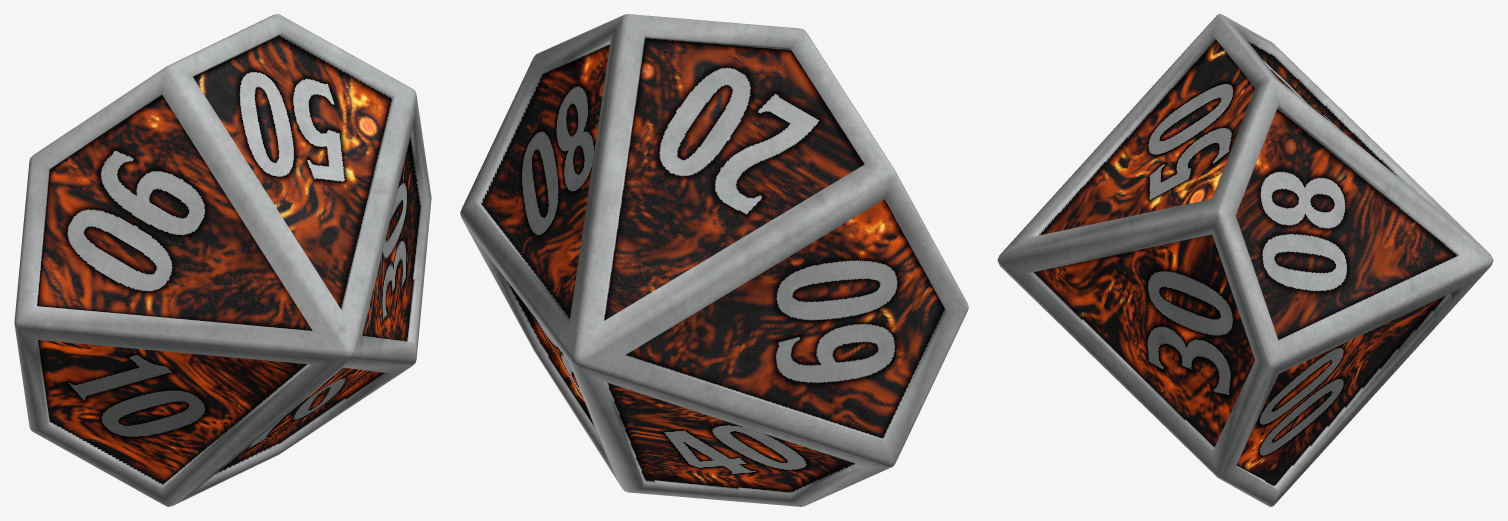
The picture shows the model from 3 angles, left to right: view 1: azimuth 30°, elevation 25°; view 2: azimuth 150°, elevation 25°; view 3: azimuth 270°, elevation 25°; orthographic projection. The views are drawn at different scales.
Visible parts, largest first — view 1: dice_100; view 2: dice_100; view 3: dice_100.
Part boxes in pixels (x1,y1,x2,y2): dice_100: (14,14,431,506); dice_100: (460,14,968,506); dice_100: (997,14,1493,506).
Size of the model in its own units: 1.77 by 1.69 by 1.77.
1 material, 1 textured.
